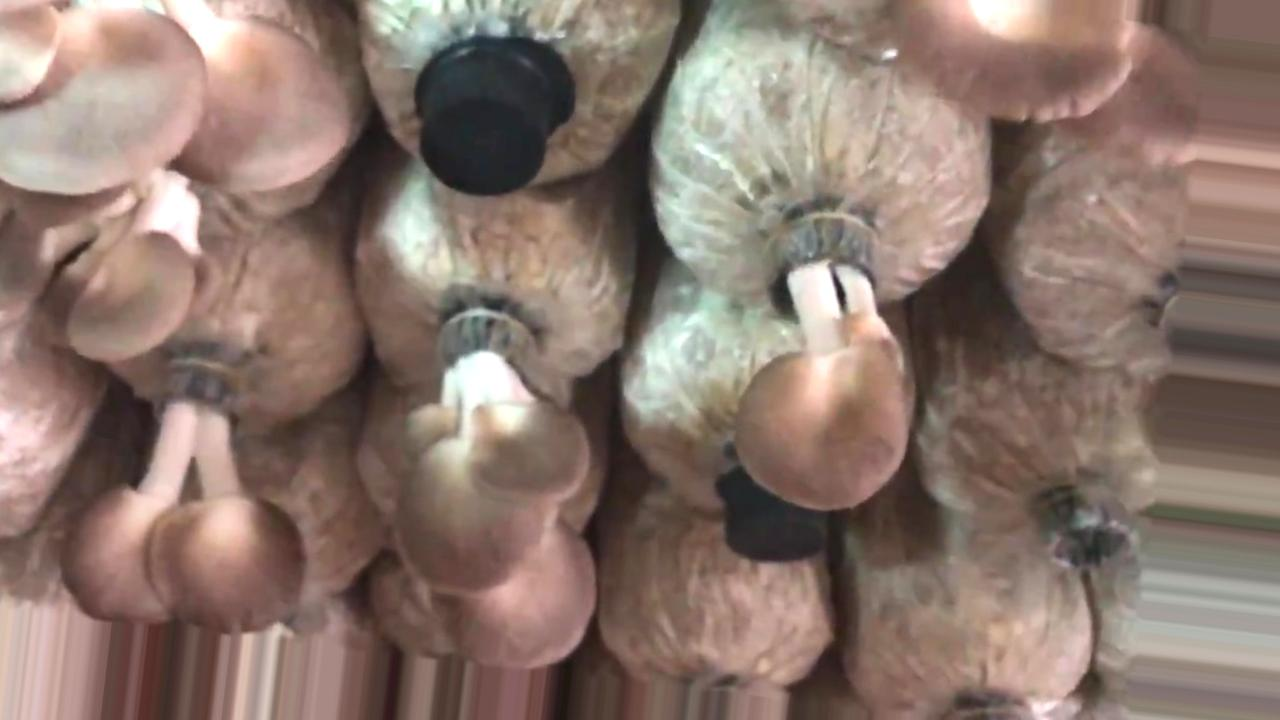nam: (396, 312, 596, 668), (1, 1, 353, 194), (66, 356, 306, 633), (731, 217, 910, 507), (888, 3, 1195, 167), (1, 169, 222, 361)
